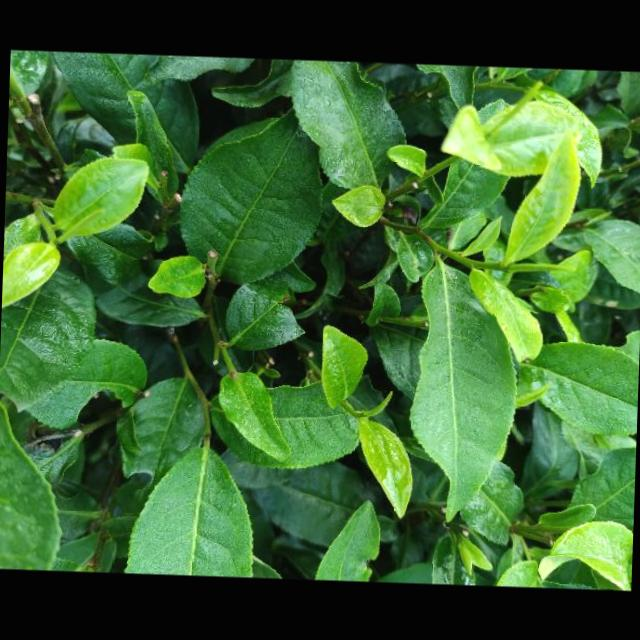Stem: (491, 263, 504, 270), (47, 233, 55, 240), (350, 409, 356, 416)
